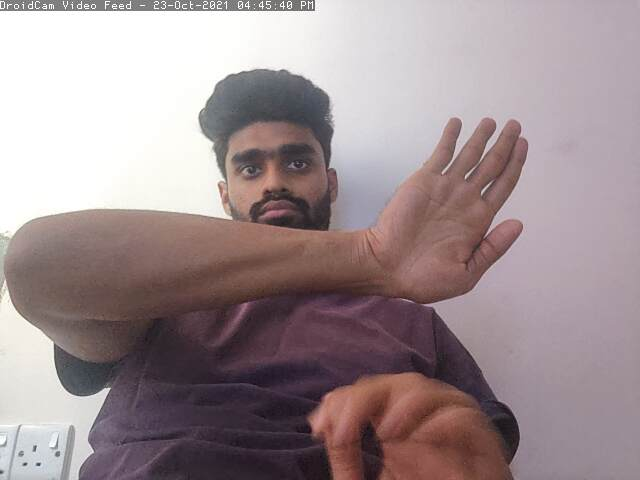Stop: (369, 117, 534, 282)
